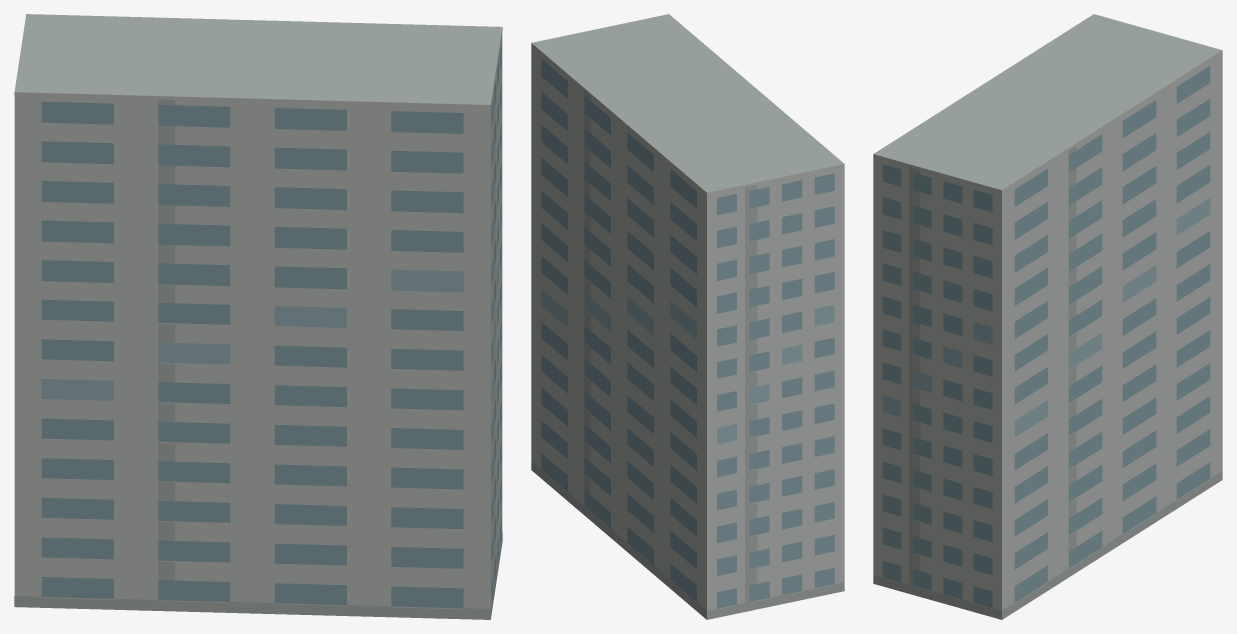
Rendered from residential-8180bcf8-e55f-4cb3-a51b-d0cf755a96e9.glb.
3 views of the same model, side by side, from view 1: azimuth 30°, elevation 25°; view 2: azimuth 150°, elevation 25°; view 3: azimuth 270°, elevation 25° (orthographic). The views are drawn at different scales.
Visible parts, largest first — view 1: residential-8180bcf8-e55f-4cb3-a51b-d0cf755a96e9.tmp; view 2: residential-8180bcf8-e55f-4cb3-a51b-d0cf755a96e9.tmp; view 3: residential-8180bcf8-e55f-4cb3-a51b-d0cf755a96e9.tmp.
Boxes of the visible parts, x1=… form: residential-8180bcf8-e55f-4cb3-a51b-d0cf755a96e9.tmp: x1=14, y1=14, x2=502, y2=619; residential-8180bcf8-e55f-4cb3-a51b-d0cf755a96e9.tmp: x1=531, y1=14, x2=844, y2=619; residential-8180bcf8-e55f-4cb3-a51b-d0cf755a96e9.tmp: x1=873, y1=14, x2=1222, y2=619.
Bounding box in the file's own units: 34.89 × 39.65 × 29.23.
